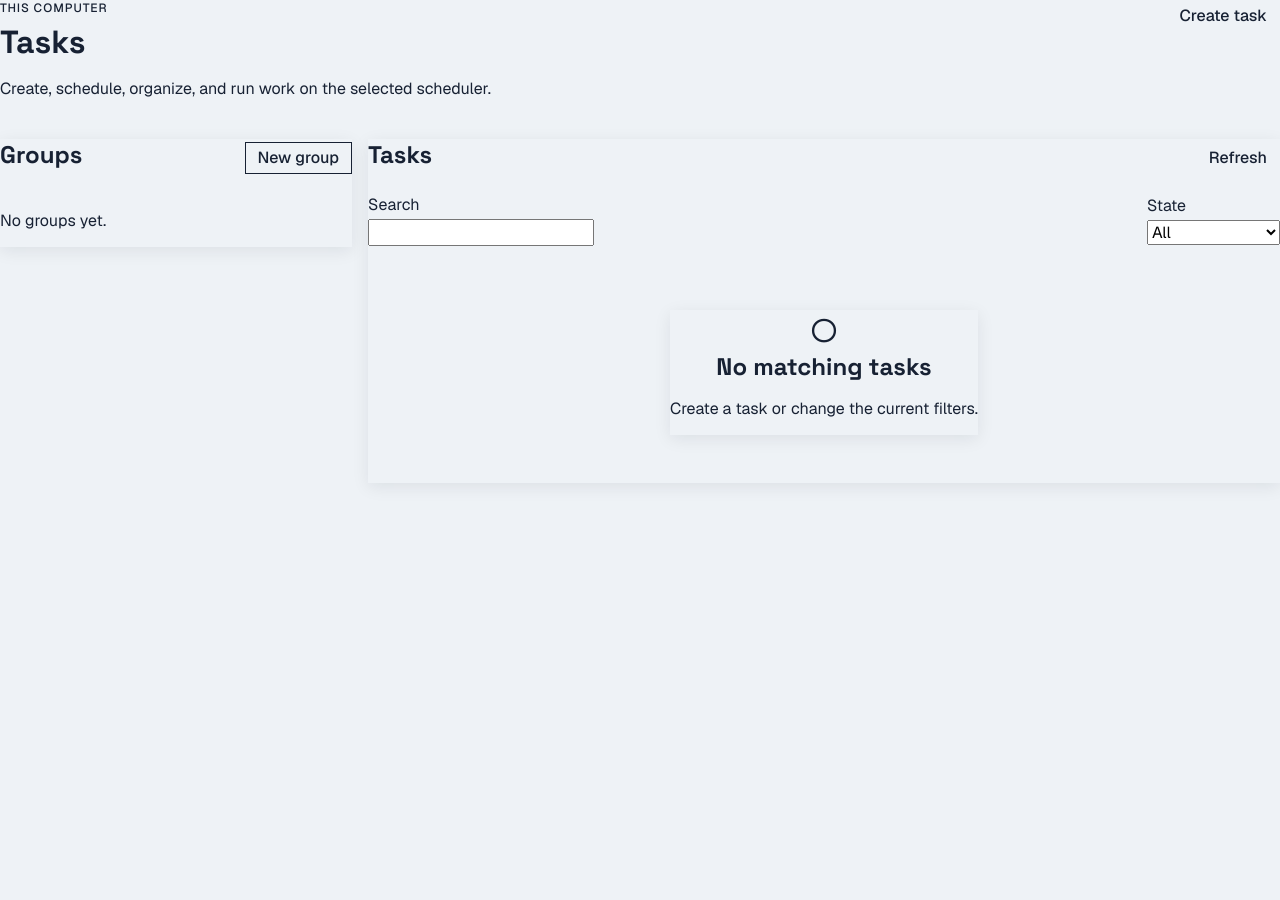
Test: opens task creation in a modal and returns focus to its invoker
Click the button "Create task" at (1223, 16), box [1167,0,1279,32]
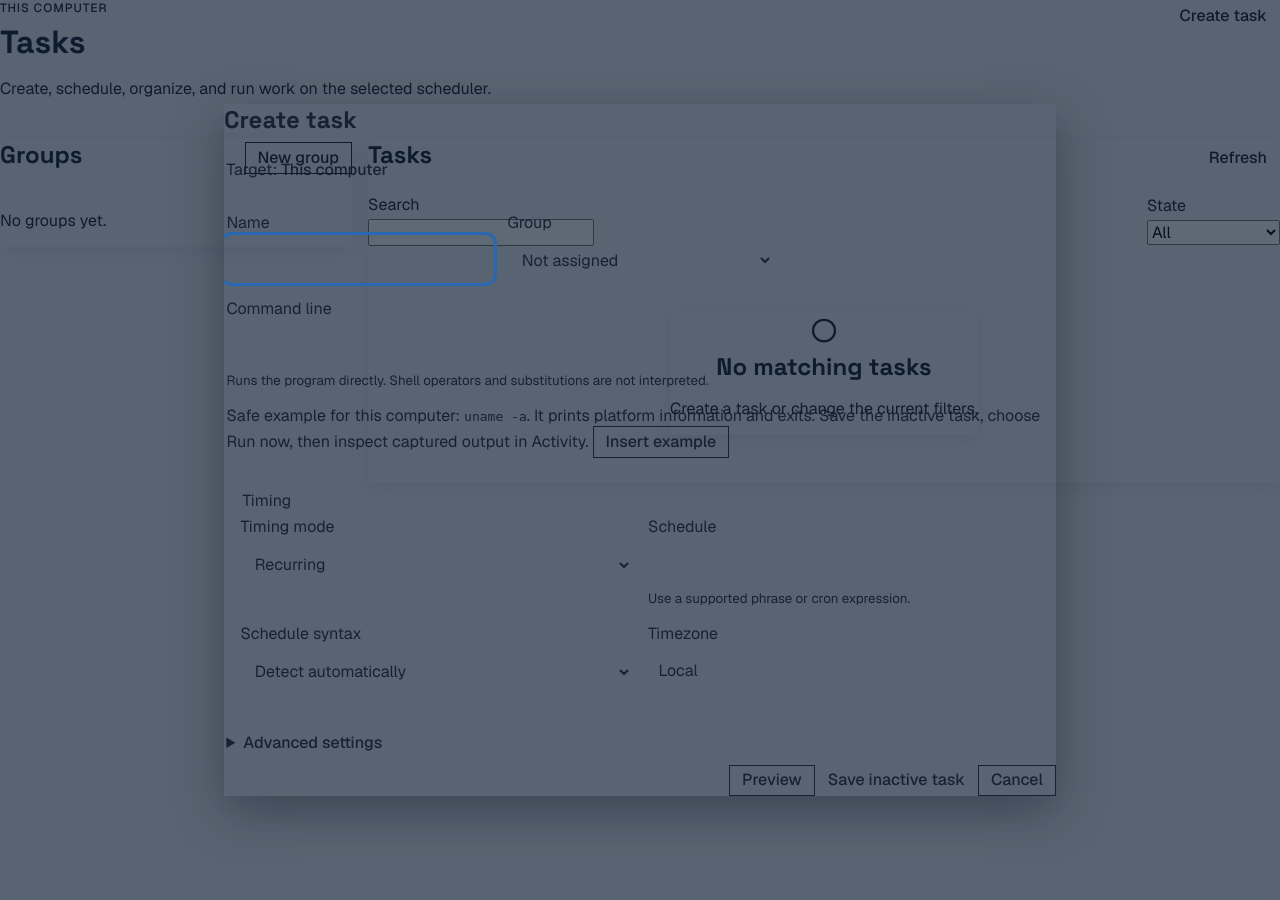
Expected: the dialog "Create task" is shown, [224,104,1056,796]
Click the button "Cancel" at (1017, 780), box [978,765,1056,796]
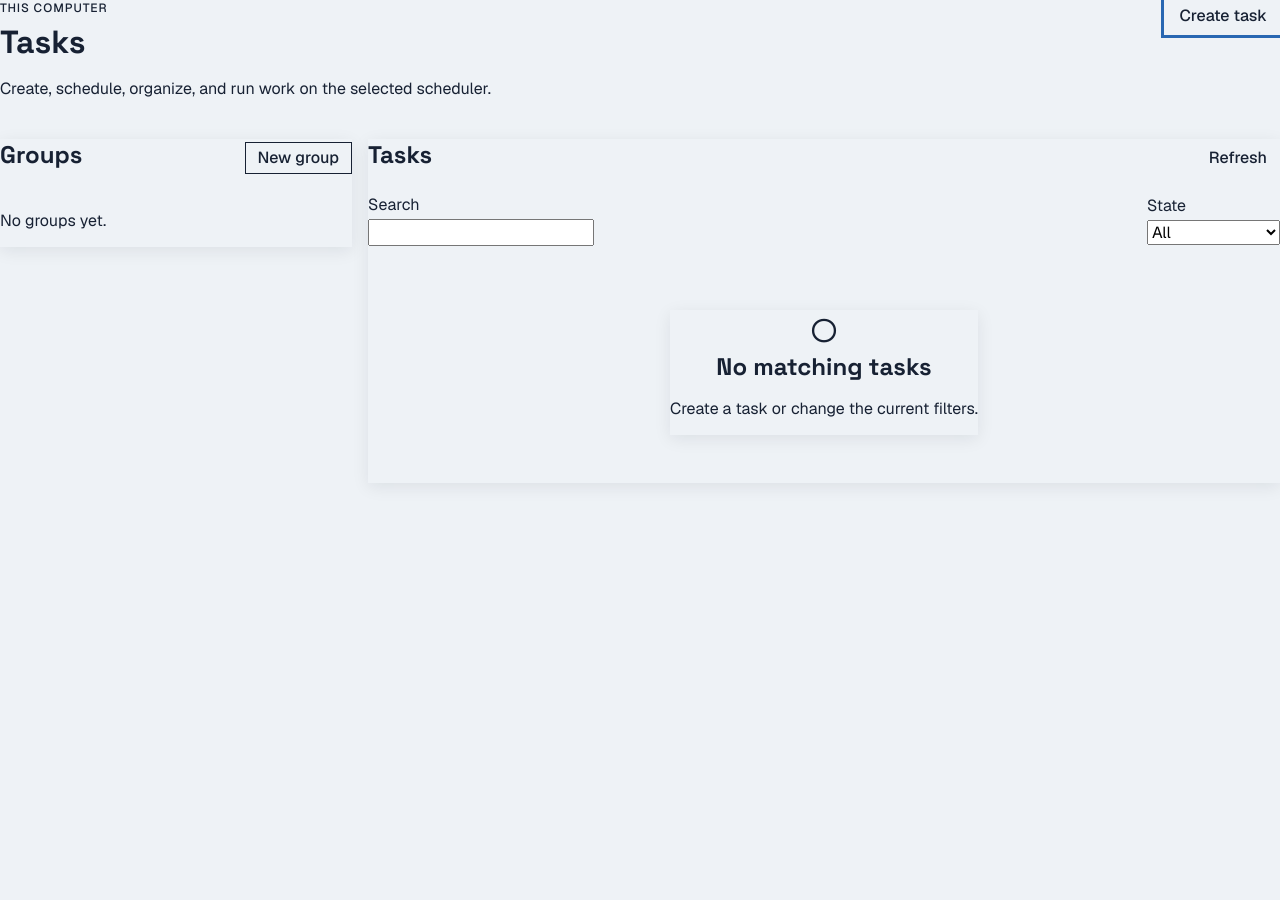
Expected: the dialog is gone
